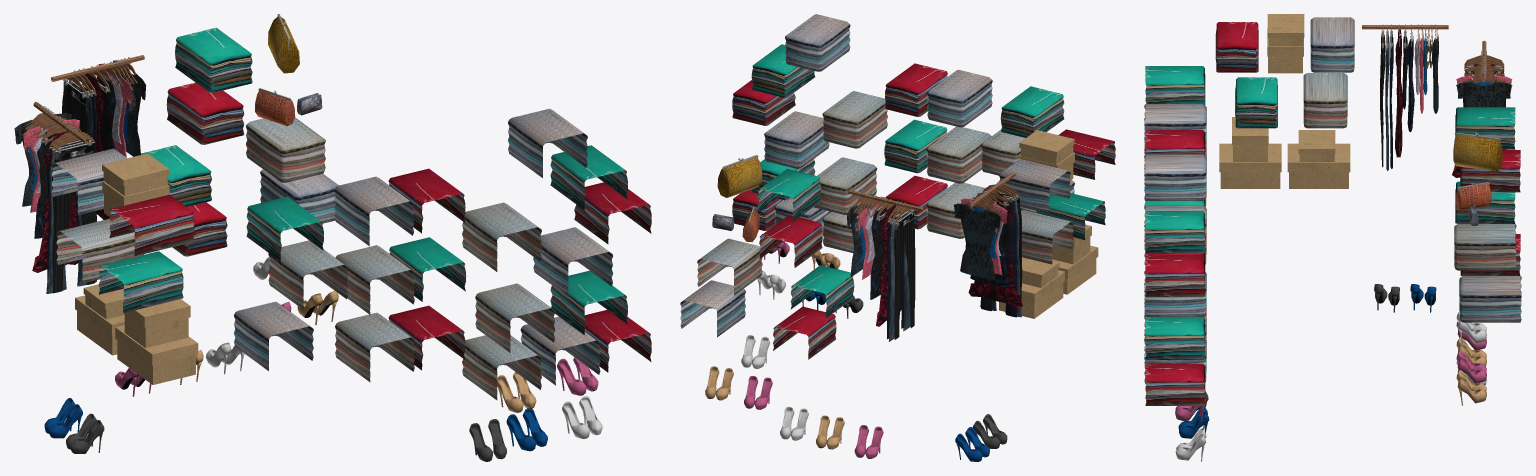
File: closetstuff.fbx
3 views of the same model, side by side, from view 1: azimuth 30°, elevation 25°; view 2: azimuth 150°, elevation 25°; view 3: azimuth 270°, elevation 25° (orthographic). The views are drawn at different scales.
Parts seen in each view (by area): view 1: BRClosetStuff; view 2: BRClosetStuff; view 3: BRClosetStuff.
Boxes of the visible parts, x1,y1,x2,y2 form: BRClosetStuff: [14, 14, 651, 461]; BRClosetStuff: [680, 14, 1115, 461]; BRClosetStuff: [1144, 14, 1521, 461].
Size of the model in its own units: 357 by 241 by 289.
